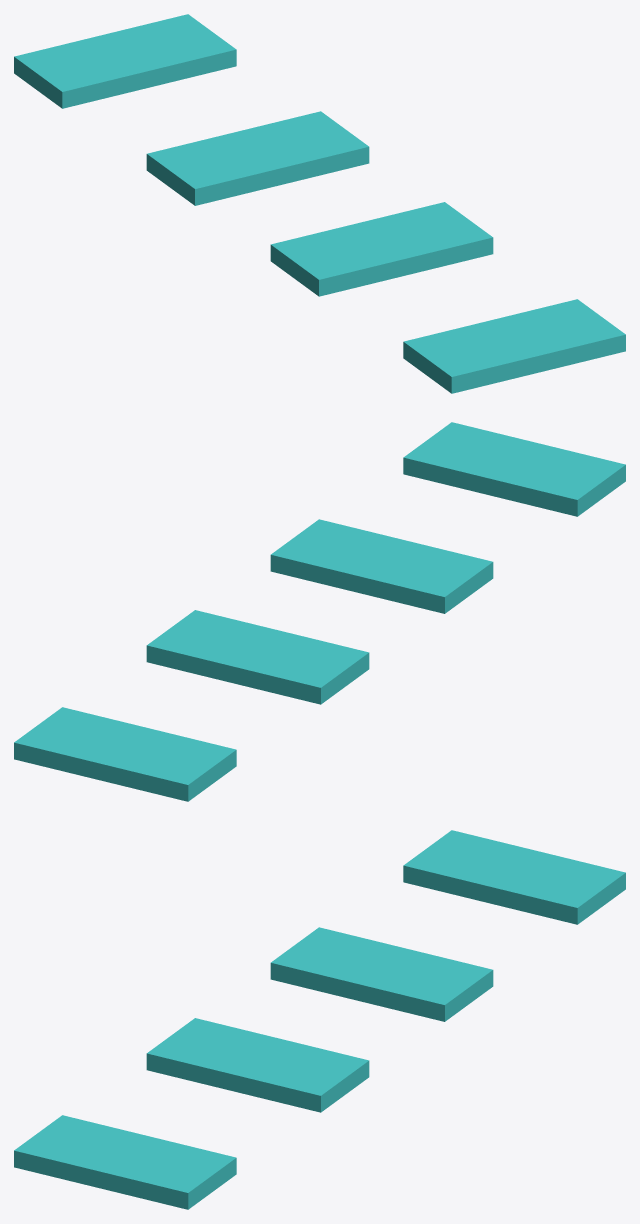
Rendered from Water02.fbx.
3 renders of one model, top to bottom at view 1: azimuth 30°, elevation 25°; view 2: azimuth 150°, elevation 25°; view 3: azimuth 330°, elevation 25°, orthographic.
Parts seen in each view (by area): view 1: pasted__Tile_Center, pasted__Tile_Center7, Tile_Center, pasted__pasted__Tile_Center; view 2: pasted__Tile_Center, pasted__Tile_Center7, Tile_Center, pasted__pasted__Tile_Center; view 3: pasted__Tile_Center, pasted__Tile_Center7, Tile_Center, pasted__pasted__Tile_Center.
Part boxes in pixels (x1,y1,x2,y2): pasted__Tile_Center: (146,111,369,205); pasted__Tile_Center7: (270,202,493,296); Tile_Center: (14,14,236,108); pasted__pasted__Tile_Center: (403,299,625,393); pasted__Tile_Center: (146,610,369,704); pasted__Tile_Center7: (270,519,493,613); Tile_Center: (14,707,236,801); pasted__pasted__Tile_Center: (403,422,625,516); pasted__Tile_Center: (270,927,493,1021); pasted__Tile_Center7: (146,1018,369,1112); Tile_Center: (403,830,625,924); pasted__pasted__Tile_Center: (14,1115,236,1209).
Size of the model in its own units: 65.12 by 6 by 283.
